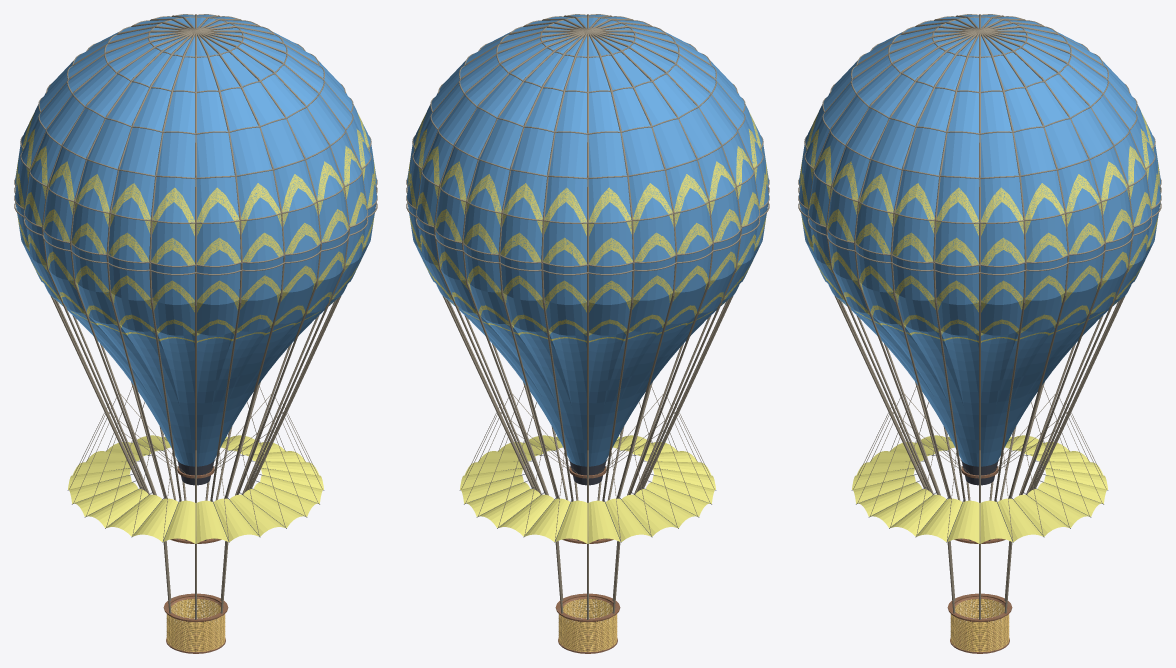
Rendered from balloon_1.dae.
The picture shows the model from 3 angles, left to right: view 1: azimuth 30°, elevation 25°; view 2: azimuth 150°, elevation 25°; view 3: azimuth 270°, elevation 25°; orthographic projection.
Parts seen in each view (by area): view 1: Component5 (×56), Component8 (×17), Component7 (×16); view 2: Component5 (×56), Component8 (×17), Component7 (×16); view 3: Component5 (×56), Component8 (×17), Component7 (×16).
Boxes of the visible parts, x1=… form: Component5 (×56): x1=26, y1=28, x2=365, y2=466; Component8 (×17): x1=24, y1=25, x2=367, y2=540; Component7 (×16): x1=68, y1=461, x2=323, y2=543; Component5 (×56): x1=418, y1=28, x2=757, y2=466; Component8 (×17): x1=416, y1=25, x2=759, y2=540; Component7 (×16): x1=460, y1=461, x2=715, y2=543; Component5 (×56): x1=810, y1=28, x2=1149, y2=466; Component8 (×17): x1=808, y1=25, x2=1151, y2=540; Component7 (×16): x1=852, y1=461, x2=1107, y2=543.
Size of the model in its own units: 400 by 400 by 744.
7 materials, 3 textured.
